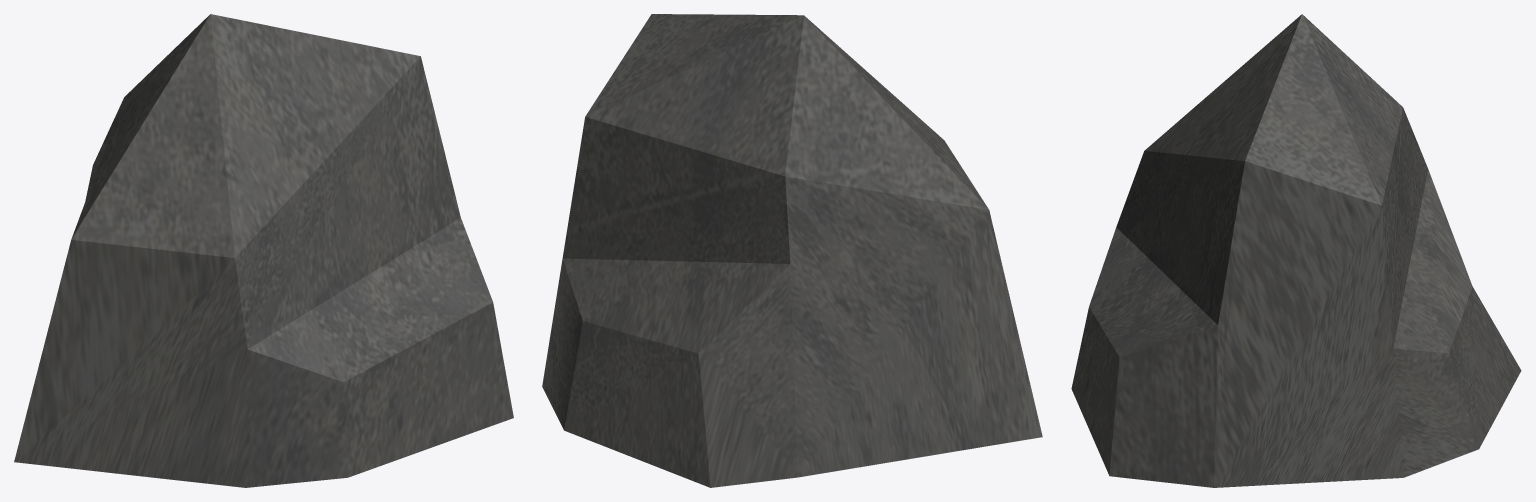
Rendered from rots1.fbx.
3 views of the same model, side by side, from view 1: azimuth 30°, elevation 25°; view 2: azimuth 150°, elevation 25°; view 3: azimuth 270°, elevation 25° (orthographic). The views are drawn at different scales.
Visible parts, largest first — view 1: pSphere1; view 2: pSphere1; view 3: pSphere1.
Part boxes in pixels (<box>): pSphere1: <box>14,14,513,487</box>; pSphere1: <box>542,14,1042,487</box>; pSphere1: <box>1071,14,1521,487</box>.
Size of the model in its own units: 5009 by 4091 by 4552.
